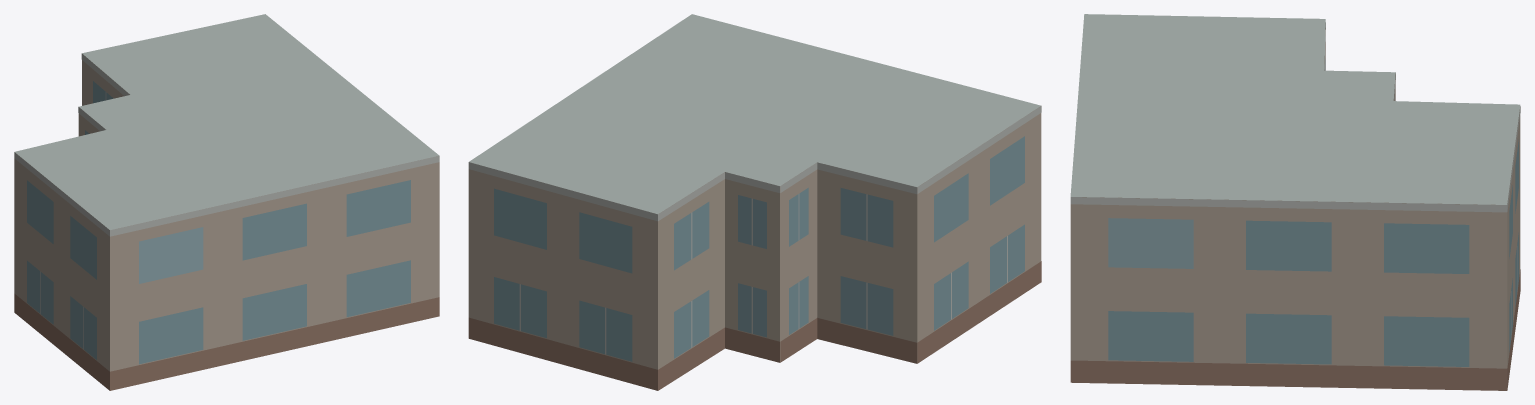
The model's file is survey-upis-32652719.glb.
3 renders of one model, left to right at view 1: azimuth 30°, elevation 25°; view 2: azimuth 150°, elevation 25°; view 3: azimuth 270°, elevation 25°, orthographic. The views are drawn at different scales.
Parts seen in each view (by area): view 1: survey-upis-32652719.tmp; view 2: survey-upis-32652719.tmp; view 3: survey-upis-32652719.tmp.
Boxes of the visible parts, left/top/right/bottom form: survey-upis-32652719.tmp: left=14, top=14, right=439, bottom=390; survey-upis-32652719.tmp: left=468, top=14, right=1041, bottom=390; survey-upis-32652719.tmp: left=1070, top=14, right=1520, bottom=390.
Bounding box in the file's own units: 13.45 × 6.1 × 13.4.
